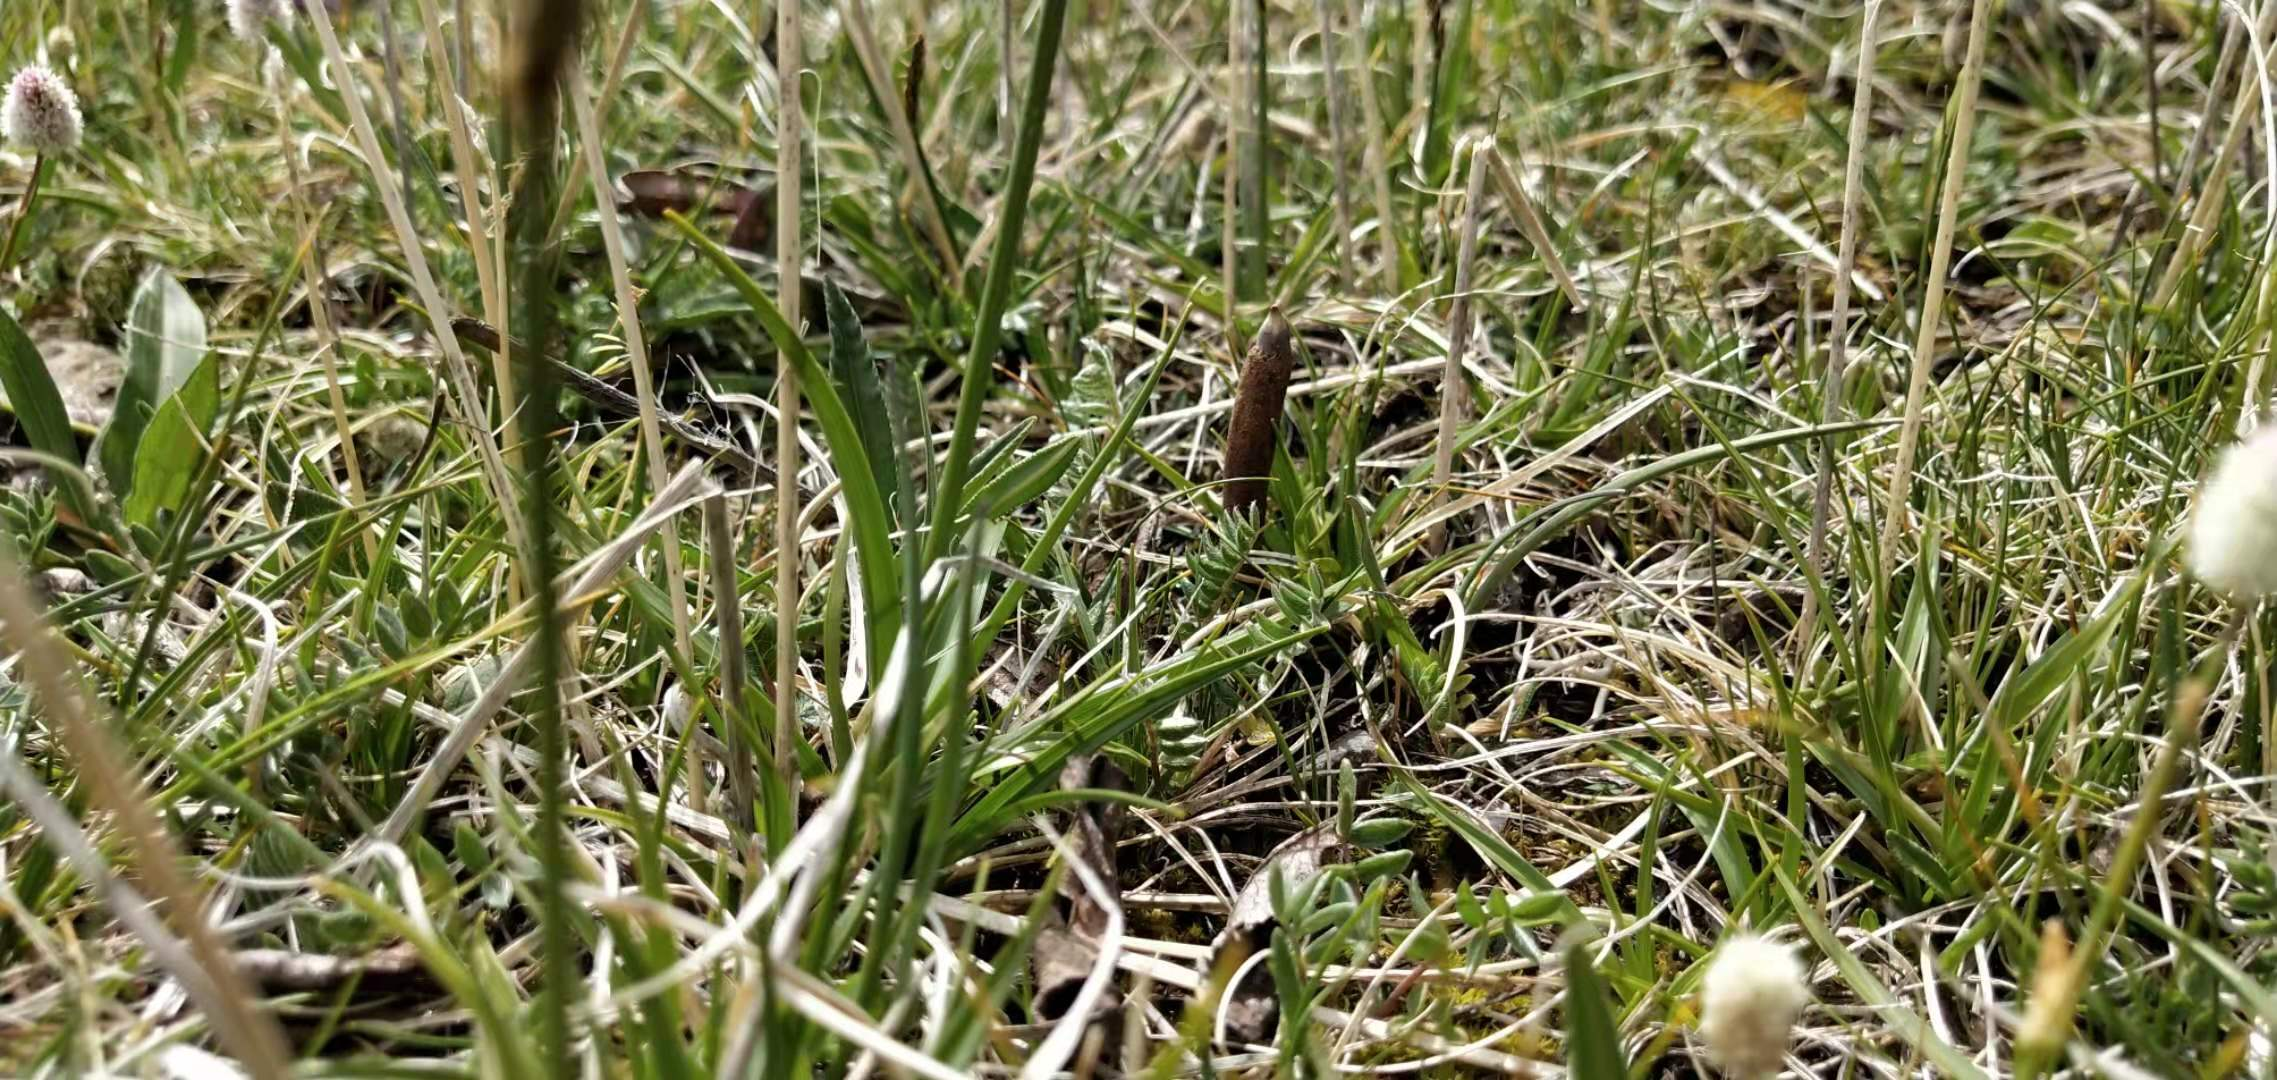cpf: (1218, 300, 1292, 525)
